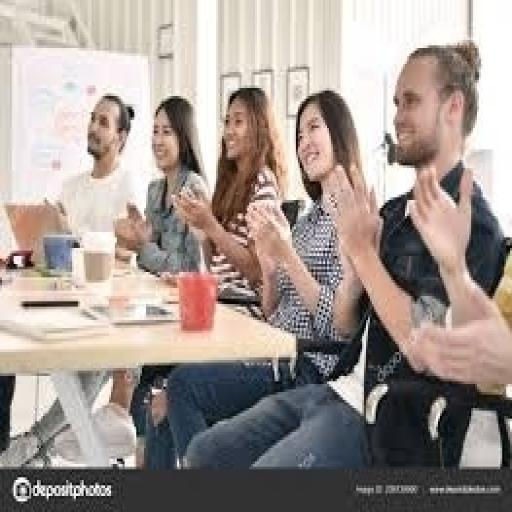clapping: (172, 79, 409, 401), (338, 42, 512, 400), (48, 104, 222, 356), (179, 51, 293, 349), (29, 88, 162, 278)
